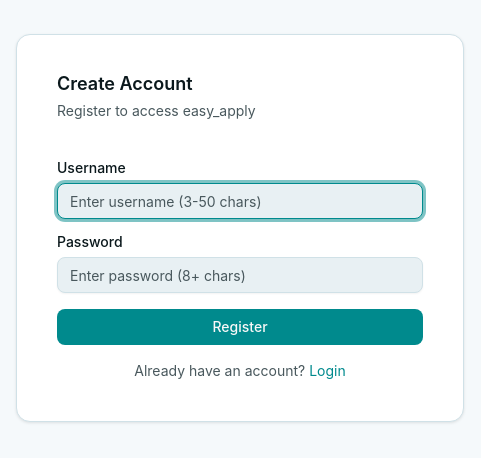
RegisterPage › client-side validation › should show error for username too short
Type "ab" into the field labelled "Username".
click(240, 201); type("ab")  # box 57,183 -> 423,219
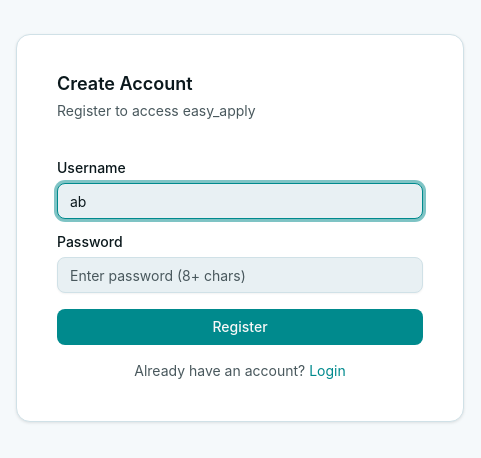
Type "password123" into the password field labelled "Password".
click(240, 275); type("password123")  # box 57,257 -> 423,293
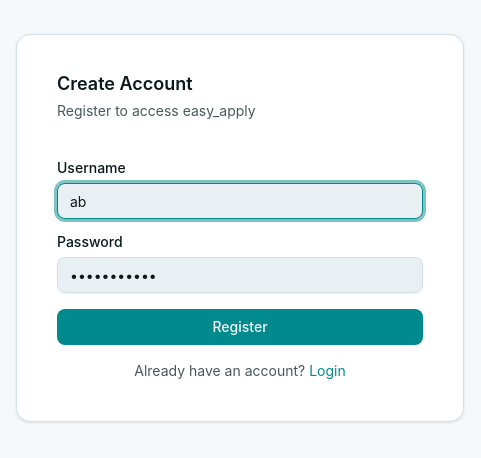
Click the button "Register".
click(240, 327)  # box 57,309 -> 423,345
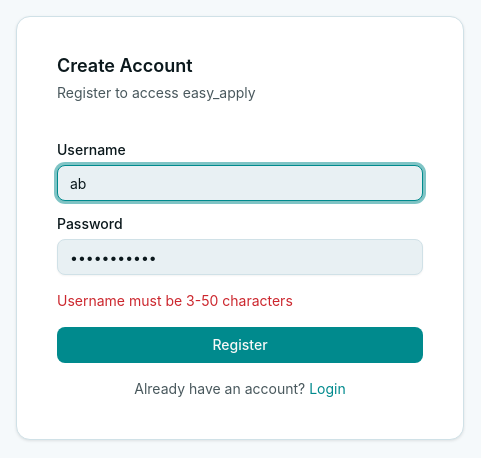
Expected: the message reads "Username must be 3-50 characters", 57,292 -> 293,309
